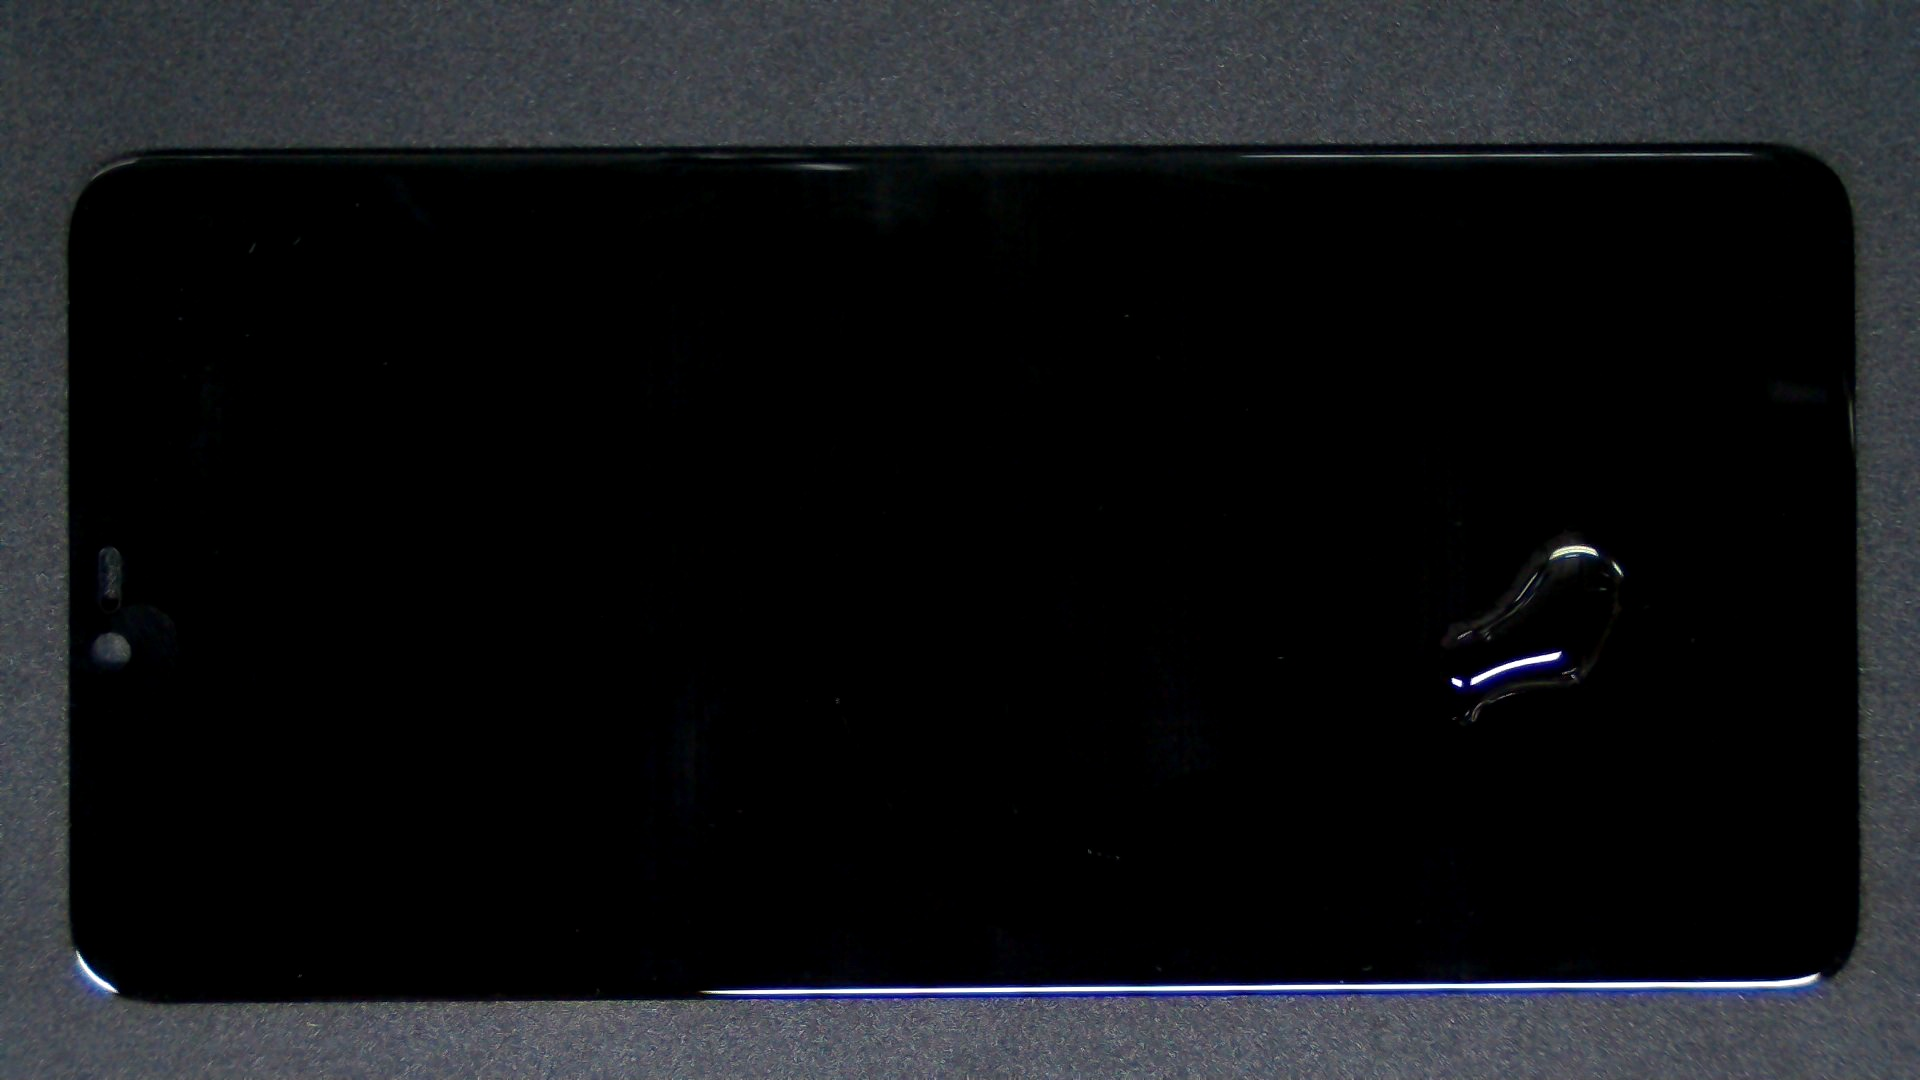oil: (785, 265, 1920, 795)
